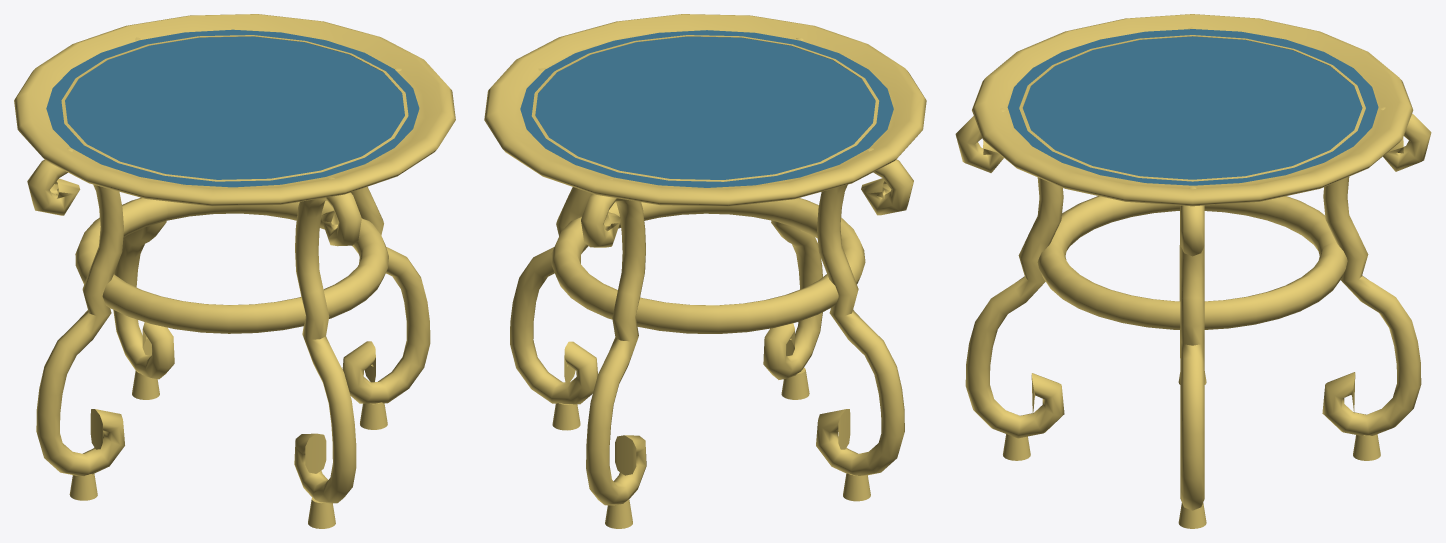
Rendered from MeTable.glb.
3 renders of one model, left to right at view 1: azimuth 30°, elevation 25°; view 2: azimuth 150°, elevation 25°; view 3: azimuth 270°, elevation 25°, orthographic.
Parts seen in each view (by area): view 1: Object_2, Object_5, Object_4, Object_3; view 2: Object_2, Object_5, Object_4, Object_3; view 3: Object_2, Object_5, Object_4, Object_3.
Boxes of the visible parts, x1,y1,x2,y2 form: Object_2: (46,29,419,187); Object_5: (27,37,430,528); Object_4: (14,14,455,206); Object_3: (75,197,388,333); Object_2: (520,30,893,187); Object_5: (510,37,913,528); Object_4: (484,14,926,206); Object_3: (551,198,865,333); Object_2: (1007,29,1378,185); Object_5: (955,27,1431,528); Object_4: (972,14,1413,206); Object_3: (1037,196,1347,329).
Size of the model in its own units: 105 by 87.06 by 106.
Materials: 4 (4 with a texture image).
